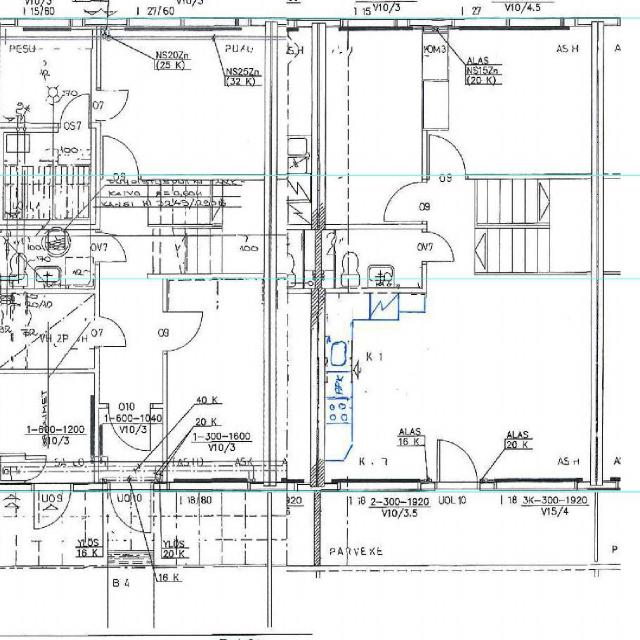door: (110, 482, 150, 534), (108, 403, 150, 452), (437, 439, 477, 490), (34, 482, 70, 530), (163, 312, 204, 351), (386, 182, 427, 221), (102, 136, 138, 180), (428, 136, 464, 179), (148, 129, 186, 165), (60, 91, 89, 128), (95, 231, 129, 262), (95, 316, 129, 346), (422, 231, 455, 261), (96, 90, 128, 120), (22, 457, 47, 480)
